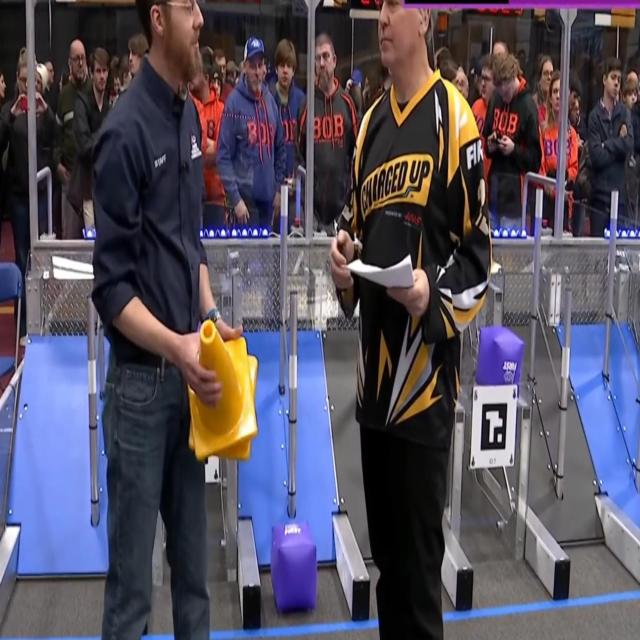frc_cone: (186, 318, 256, 458)
frc_cube: (270, 521, 318, 613), (476, 324, 523, 392)
